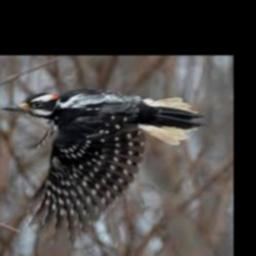Woodpecker: (2, 87, 204, 241)
